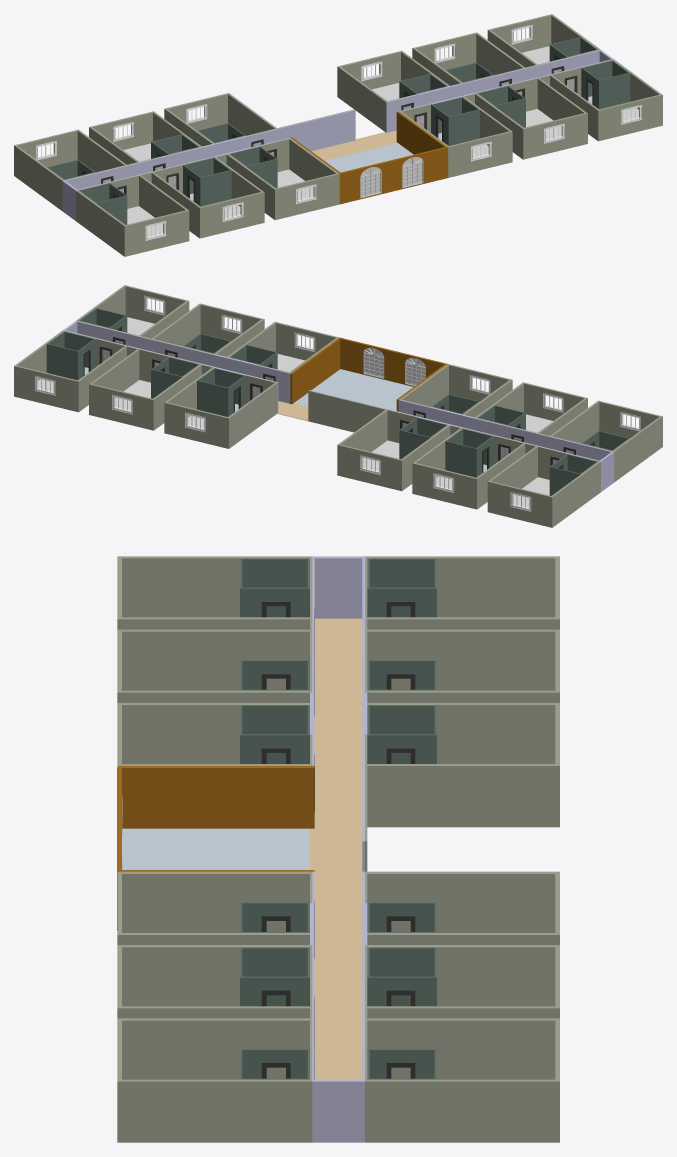
File: 6F_testcollection.fbx
3 views of the same model, one above another, from view 1: azimuth 30°, elevation 25°; view 2: azimuth 150°, elevation 25°; view 3: azimuth 270°, elevation 25° (orthographic). The views are drawn at different scales.
Visible parts, largest first — view 1: sit_windowframe, hall_middlewall.003, room_wall3.002, room_wall3, room_wall3.007, room_wall3.008, room_wall3.001, room_wall3.006, room_wall2.009, room_wall4, room_wall4.003, room_wall3.003 (+63 smaller); view 2: sit_floor, hall_middlewall.003, room_wall3.005, room_wall3.003, room_wall3.010, room_wall3.009, room_wall3.004, room_wall3.011, sit_windowframe, sit_hallwall2, room_wall2.009, room_wall4 (+61 smaller); view 3: hall floor, room_wall2.005, sit_hallwall, room_wall4.011, room_wall4.006, room_wall2.009, room_wall2.011, room_wall2.004, room_wall2.008, room_wall2.001, room_wall2.006, sit_floor (+34 smaller).
Part boxes in pixels (x1,y1,x2,y2): sit_windowframe: [341, 147, 446, 203]; hall_middlewall.003: [267, 109, 355, 150]; room_wall3.002: [273, 173, 337, 220]; room_wall3: [123, 210, 187, 256]; room_wall3.007: [522, 113, 585, 159]; room_wall3.008: [449, 131, 512, 177]; room_wall3.001: [201, 191, 264, 237]; room_wall3.006: [599, 94, 662, 140]; room_wall2.009: [337, 66, 387, 131]; room_wall4: [76, 190, 124, 255]; room_wall4.003: [15, 146, 63, 210]; room_wall3.003: [14, 130, 77, 176]; sit_floor: [294, 369, 412, 410]; hall_middlewall.003: [308, 390, 396, 442]; room_wall3.005: [339, 444, 403, 491]; room_wall3.003: [489, 481, 553, 527]; room_wall3.010: [91, 384, 154, 430]; room_wall3.009: [164, 402, 227, 448]; room_wall3.004: [412, 462, 475, 508]; room_wall3.011: [14, 365, 77, 411]; sit_windowframe: [340, 338, 445, 386]; sit_hallwall2: [290, 337, 340, 404]; room_wall2.009: [227, 382, 276, 448]; room_wall4: [613, 417, 661, 481]; hall floor: [310, 618, 362, 1079]; room_wall2.005: [367, 764, 559, 827]; sit_hallwall: [117, 766, 314, 828]; room_wall4.011: [367, 1079, 555, 1142]; room_wall4.006: [122, 1079, 309, 1142]; room_wall2.009: [367, 871, 559, 932]; room_wall2.011: [367, 1018, 559, 1079]; room_wall2.004: [367, 629, 559, 690]; room_wall2.008: [117, 871, 309, 932]; room_wall2.001: [117, 629, 309, 690]; room_wall2.006: [117, 1018, 309, 1079]; sit_floor: [122, 828, 309, 869].
Bounding box in the file's own units: 5209 × 283 × 1857.
